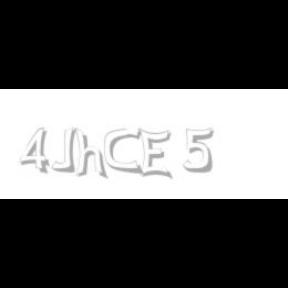4: (18, 128, 50, 174)
5: (182, 128, 214, 174)
C: (104, 128, 142, 174)
E: (138, 128, 171, 180)
J: (50, 128, 76, 172)
h: (74, 128, 110, 180)
